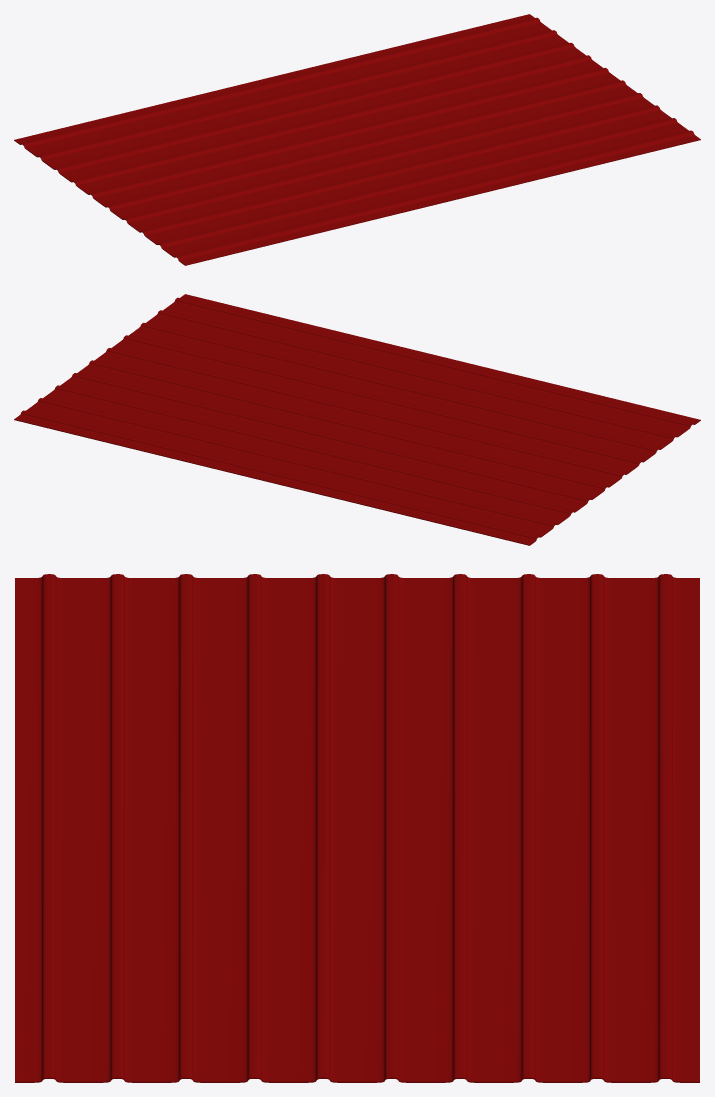
File: REDcorrugated_metal_sheet_-_type_3.glb
3 views of the same model, one above another, from view 1: azimuth 30°, elevation 25°; view 2: azimuth 150°, elevation 25°; view 3: azimuth 270°, elevation 25° (orthographic). The views are drawn at different scales.
Visible parts, largest first — view 1: Plech_3, Plech_19, Plech_15, Plech_17, Plech_5, Plech_11, Plech_21, Plech_7, Plech_9, Plech_13; view 2: Plech_21, Plech_5, Plech_9, Plech_7, Plech_3, Plech_13, Plech_19, Plech_11, Plech_15, Plech_17; view 3: Plech_3, Plech_5, Plech_7, Plech_9, Plech_11, Plech_13, Plech_15, Plech_17, Plech_19, Plech_21.
Boxes of the visible parts, left/top/right/bottom form: Plech_3: left=168, top=127, right=700, bottom=265; Plech_19: left=31, top=26, right=563, bottom=165; Plech_15: left=65, top=51, right=597, bottom=189; Plech_17: left=48, top=39, right=580, bottom=177; Plech_5: left=151, top=114, right=683, bottom=252; Plech_11: left=100, top=76, right=631, bottom=215; Plech_21: left=14, top=14, right=546, bottom=152; Plech_7: left=134, top=102, right=666, bottom=240; Plech_9: left=116, top=89, right=649, bottom=227; Plech_13: left=82, top=64, right=614, bottom=202; Plech_21: left=14, top=407, right=546, bottom=545; Plech_5: left=151, top=306, right=683, bottom=445; Plech_9: left=117, top=331, right=649, bottom=469; Plech_7: left=134, top=319, right=666, bottom=457; Plech_3: left=168, top=294, right=700, bottom=432; Plech_13: left=83, top=356, right=614, bottom=495; Plech_19: left=31, top=394, right=563, bottom=532; Plech_11: left=100, top=344, right=632, bottom=482; Plech_15: left=65, top=369, right=598, bottom=507; Plech_17: left=48, top=382, right=580, bottom=520; Plech_3: left=15, top=574, right=83, bottom=1082; Plech_5: left=83, top=574, right=151, bottom=1082; Plech_7: left=152, top=574, right=220, bottom=1082; Plech_9: left=220, top=574, right=288, bottom=1082; Plech_11: left=289, top=574, right=357, bottom=1082; Plech_13: left=357, top=574, right=425, bottom=1082; Plech_15: left=426, top=574, right=494, bottom=1082; Plech_17: left=494, top=574, right=562, bottom=1082; Plech_19: left=563, top=574, right=631, bottom=1082; Plech_21: left=631, top=574, right=699, bottom=1082.
Bounding box in the file's own units: 4 × 0.02 × 2.3.
